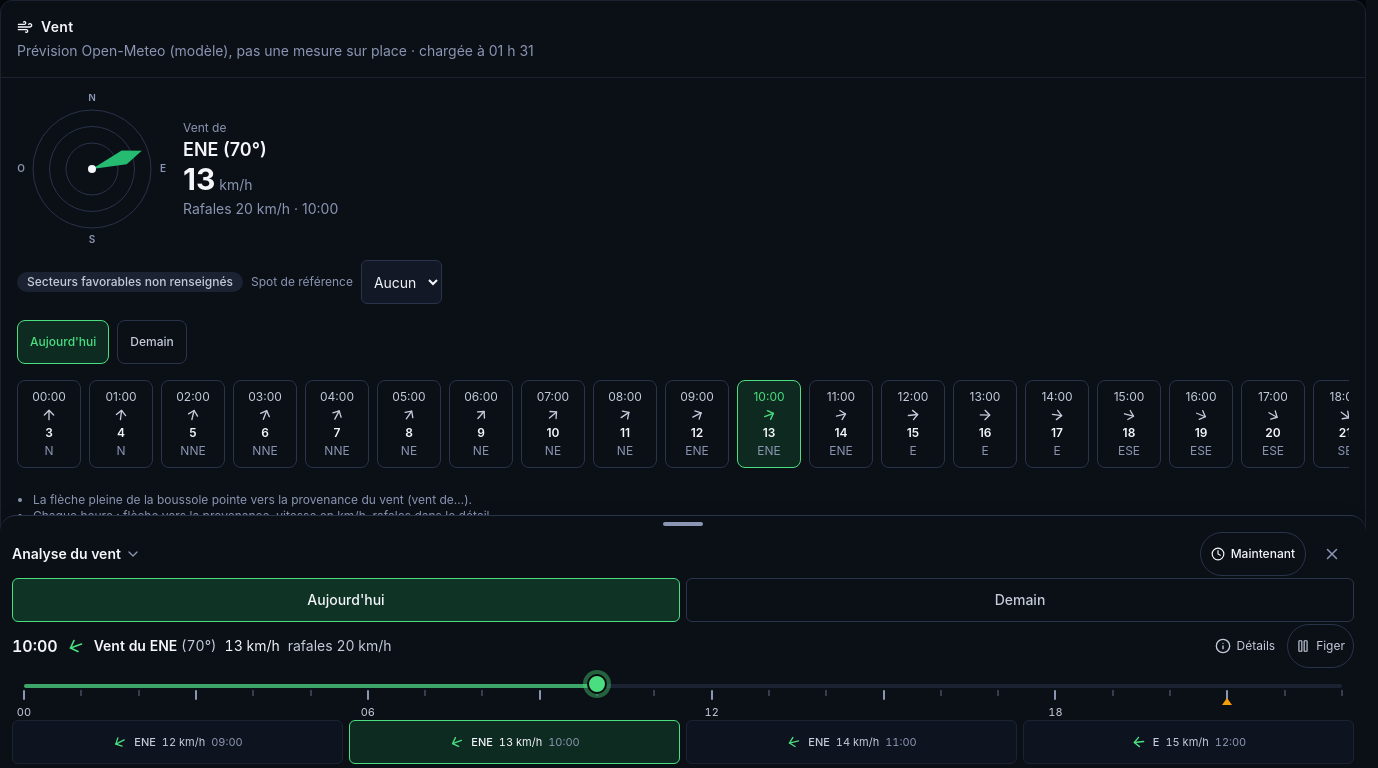
Test: WindAnalysisPanel × panneau Vent de la page Météo › choisir une heure dans le panneau Vent déplace la barre et la feuille
The width and height of the screenshot is (1378, 768).
Click the button "12:00 15 E": (913, 424) [881, 380, 945, 468]
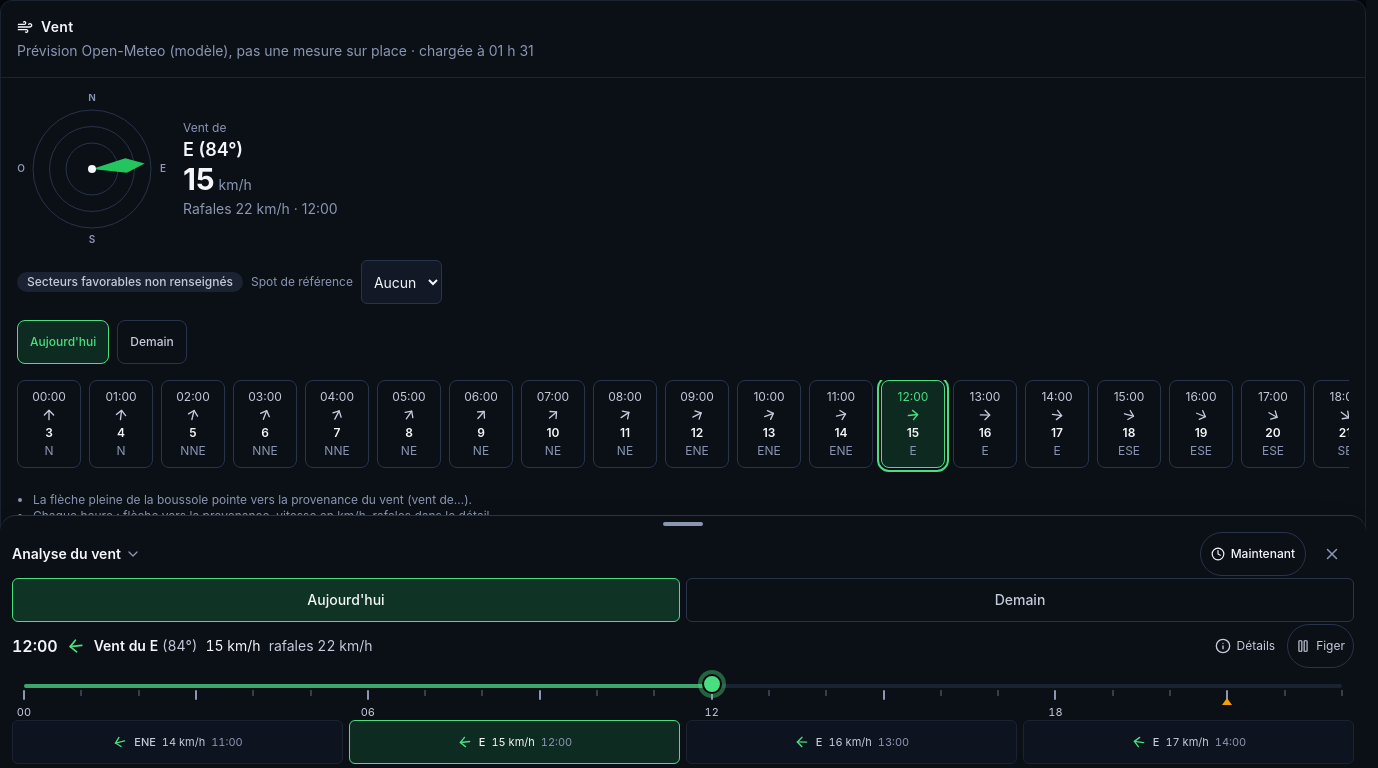
expect the element with test id "wind-readout" shows "15 km/h": met, box [12, 635, 372, 657]
